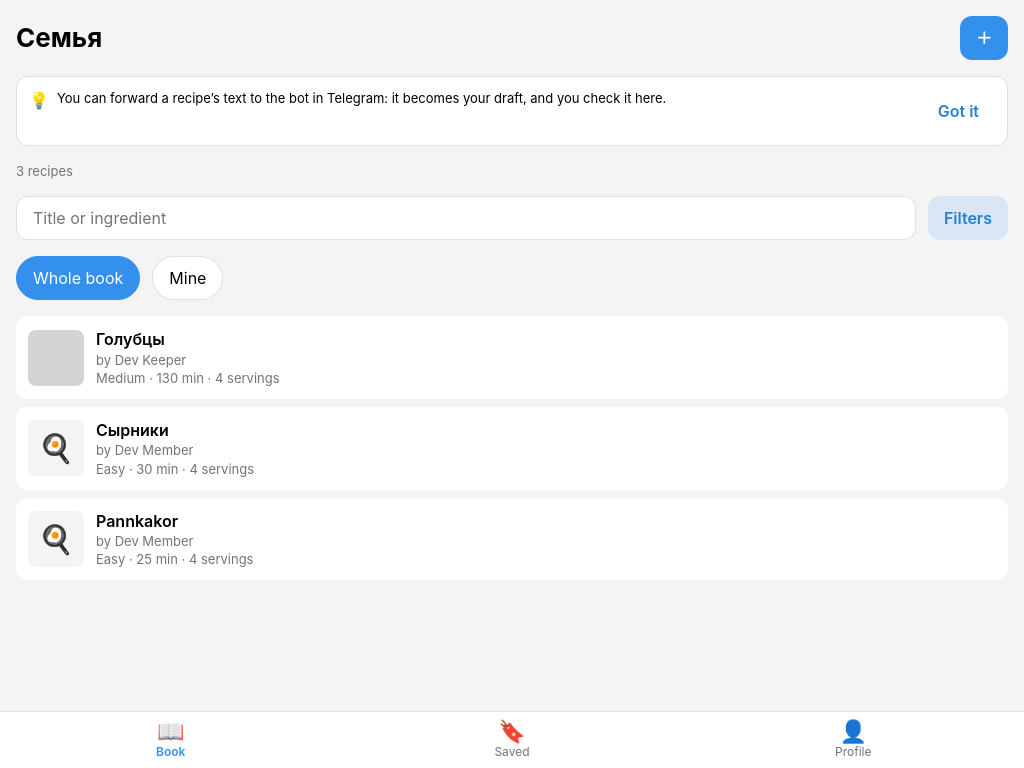
it: book list: pages of 50, search and filters on the server (BE-11) › "Mine" asks the API for my recipes, drafts included
The width and height of the screenshot is (1024, 768).
Expected: the text "Голубцы" is shown, [96,329,165,349]
Click the button "Mine": point(188, 278) [152,256,223,300]
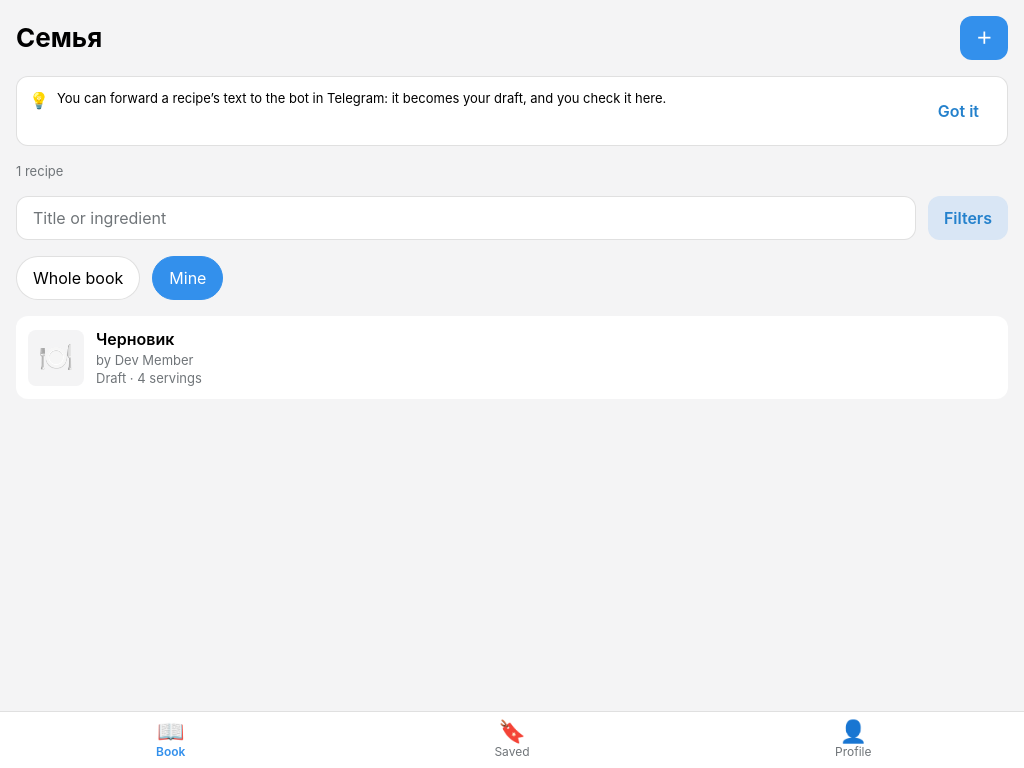
Expected: the text "Черновик" is shown, [96,329,174,349]
Expected: the text "Draft · 4 servings" is shown, [96,370,202,386]
